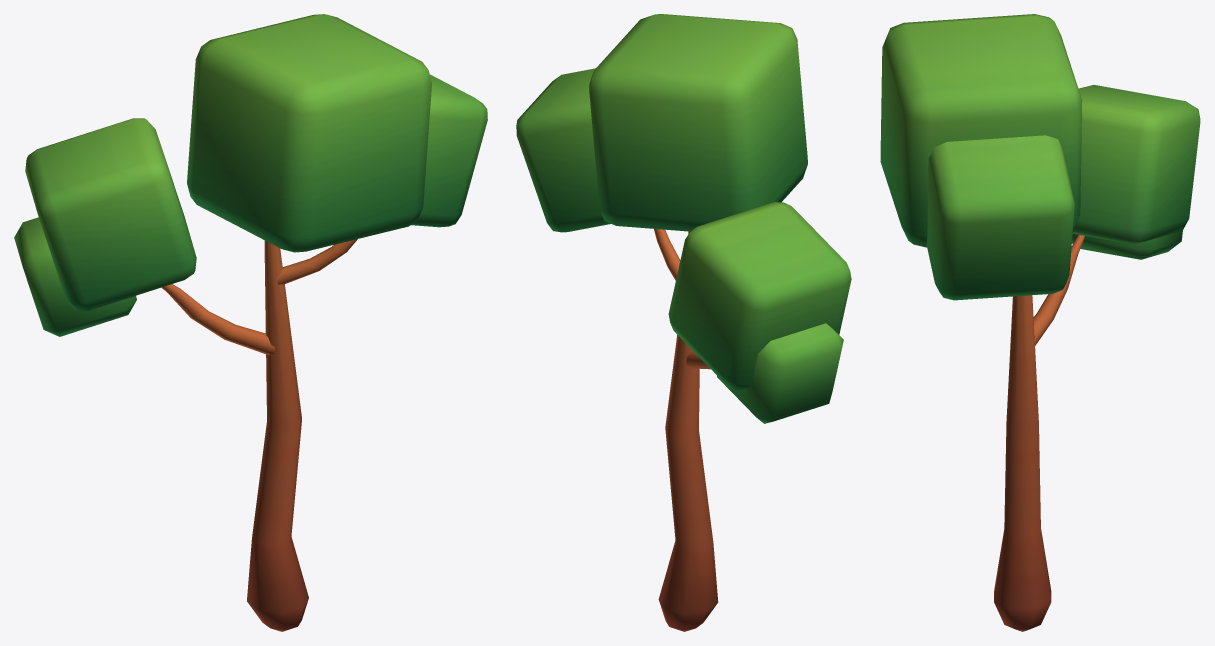
The model's file is Tree_2_C.glb.
3 renders of one model, left to right at view 1: azimuth 30°, elevation 25°; view 2: azimuth 150°, elevation 25°; view 3: azimuth 270°, elevation 25°, orthographic. The views are drawn at different scales.
Parts seen in each view (by area): view 1: Tree_2_C_Color1; view 2: Tree_2_C_Color1; view 3: Tree_2_C_Color1.
Boxes of the visible parts, <box> form: Tree_2_C_Color1: <box>14,14,487,631</box>; Tree_2_C_Color1: <box>516,14,851,631</box>; Tree_2_C_Color1: <box>880,14,1200,631</box>.
Bounding box in the file's own units: 4.6 × 6.92 × 3.4.
Materials: 1 (1 with a texture image).
